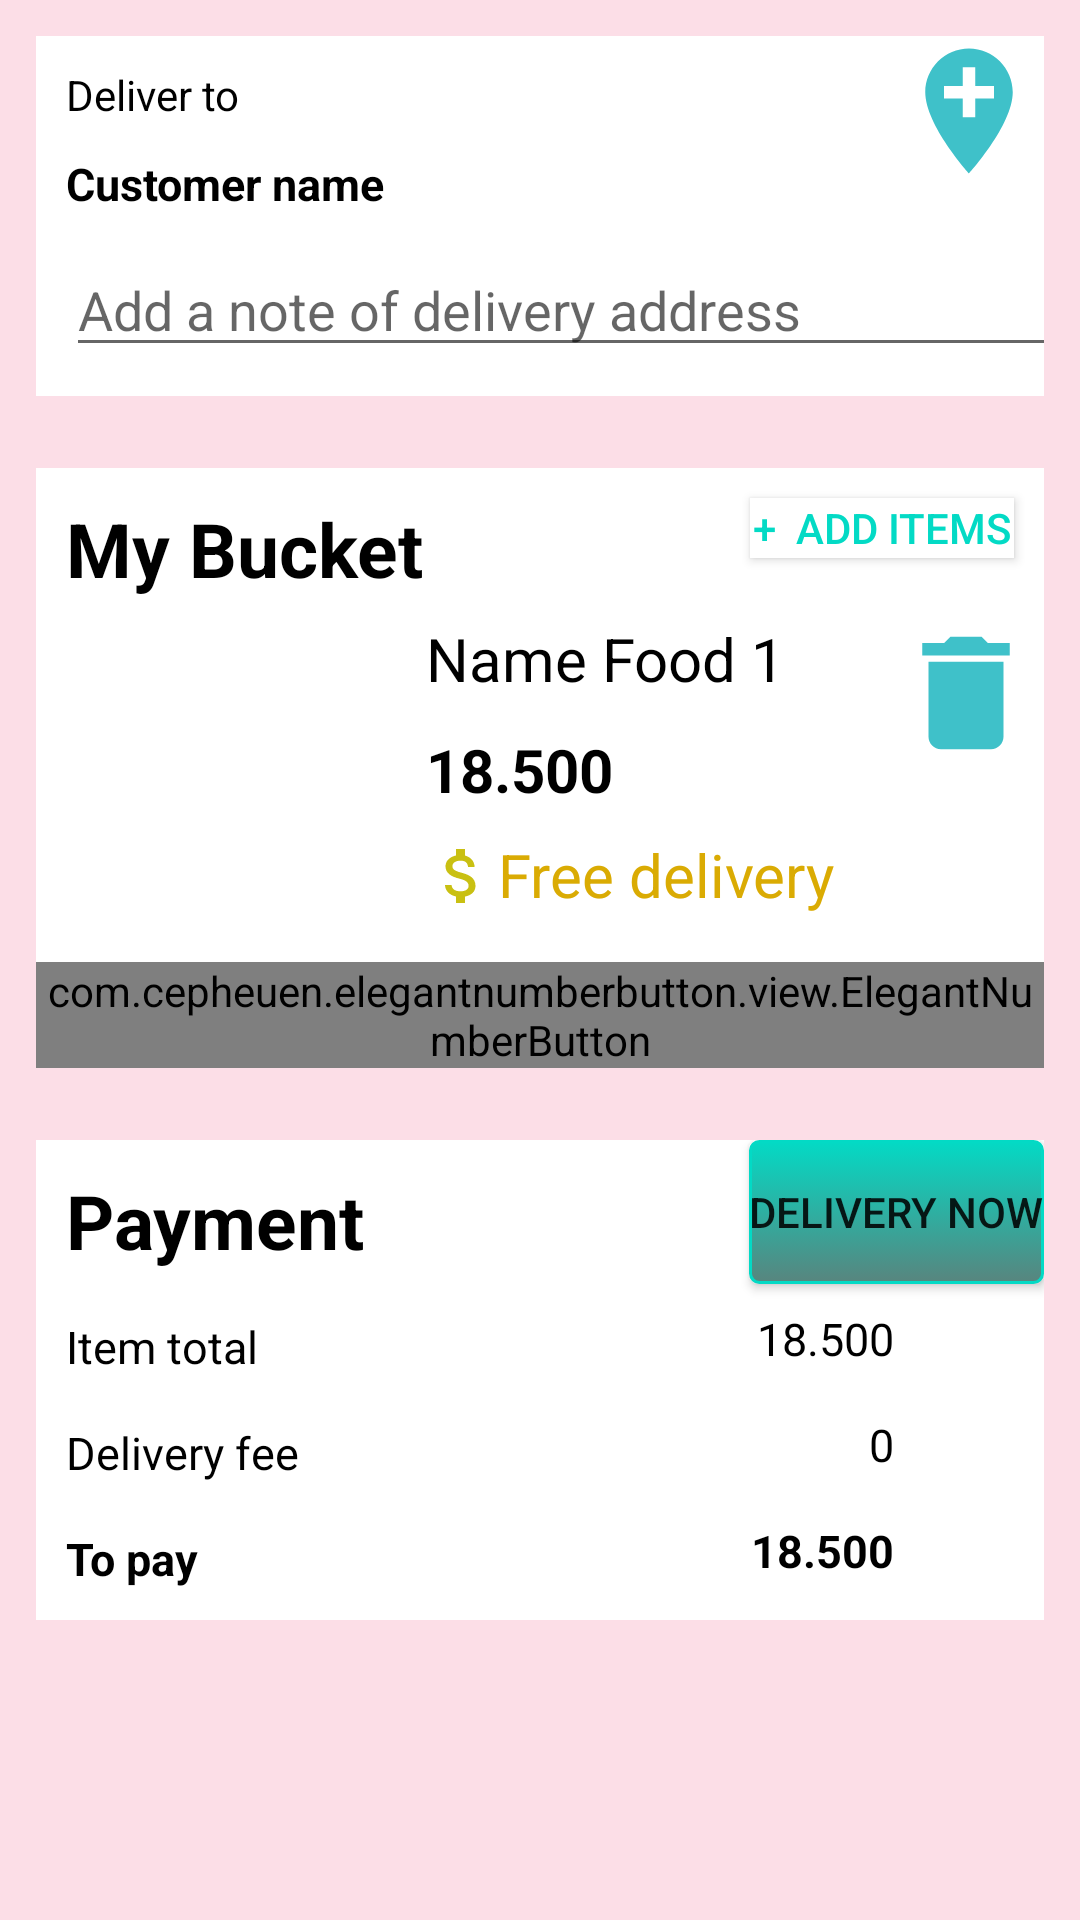

Icons on this 1080px×1920px Android screen, each with the point to tap as [x,y]:
add location: [969,111]
attach money: [460,876]
delete: [966,693]
